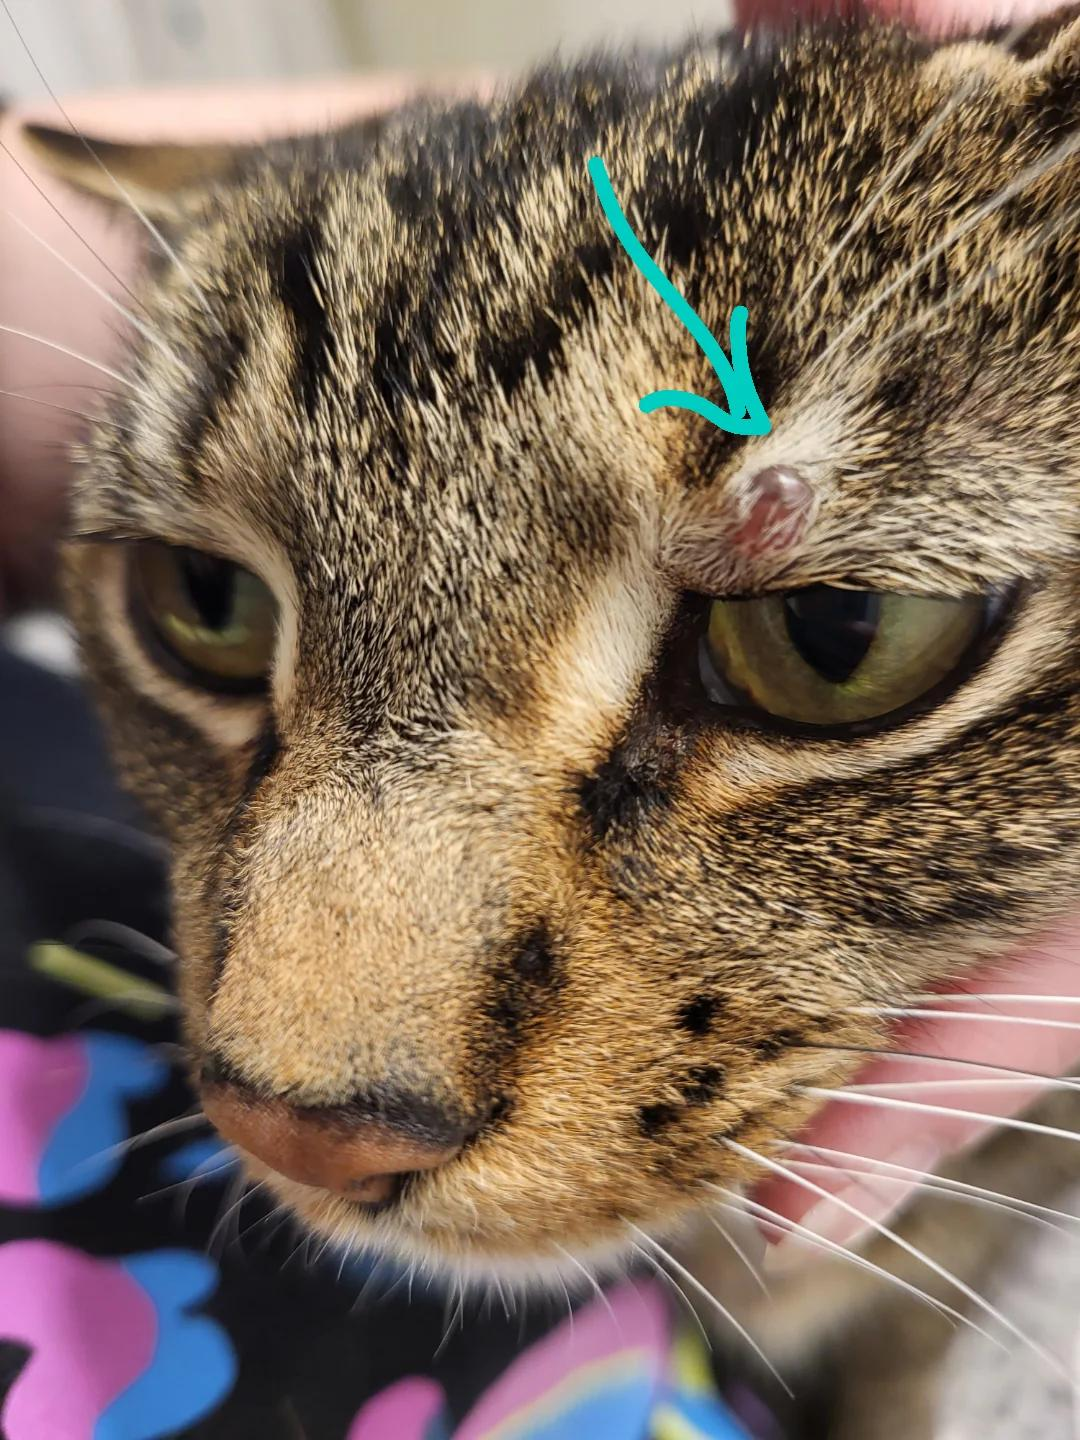lump_and_bump: (732, 472, 808, 558)
